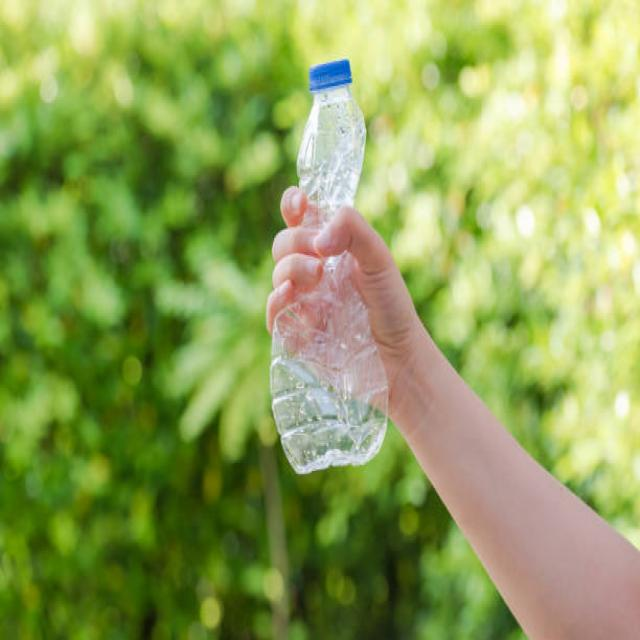plastic: (270, 53, 387, 472)
